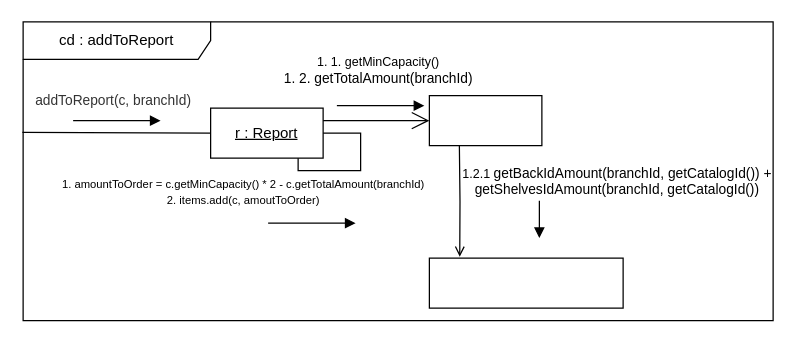
This 795x343 diagram has some shape labels left out. Here are the shapes that lost their labels. From the top down, the box of each, then its label:
(428, 94, 542, 146): c : CatalogItem
(428, 257, 623, 308): stock : StockItemDataMaper
